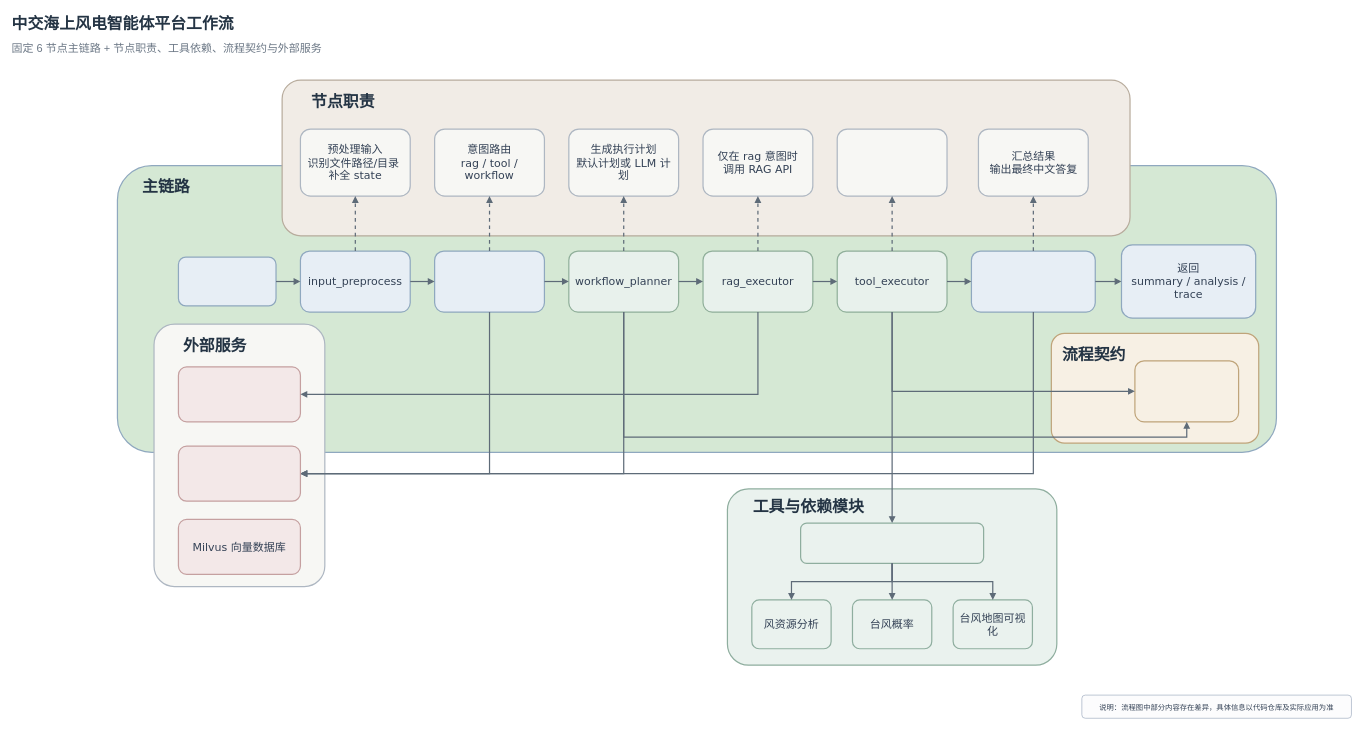
Some shapes in this 1362 by 729 pixel diagram are drawn without their labels. Each missing label, with the box of its shape:
answer_synthesizer: (971, 250, 1096, 312)
intent_router: (434, 250, 545, 312)
功能型 vLLM 服务: (178, 366, 301, 422)
工具注册与统一执行: (800, 522, 984, 564)
执行 workflow 步骤 rag / llm / tool: (836, 128, 947, 196)
用户请求: (178, 256, 276, 306)
类型约束 默认 plan 构建: (1134, 360, 1239, 422)
编排型 vLLM 服务: (178, 445, 301, 501)
